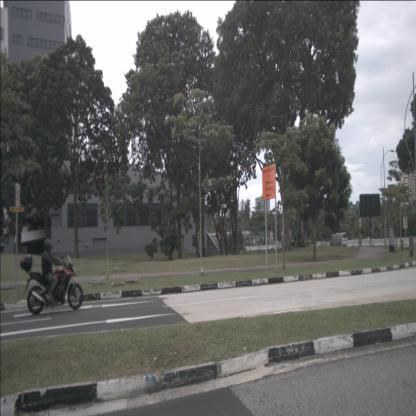vehicle-car: (330, 232, 348, 247)
vehicle-motorcycle: (20, 238, 84, 315)
